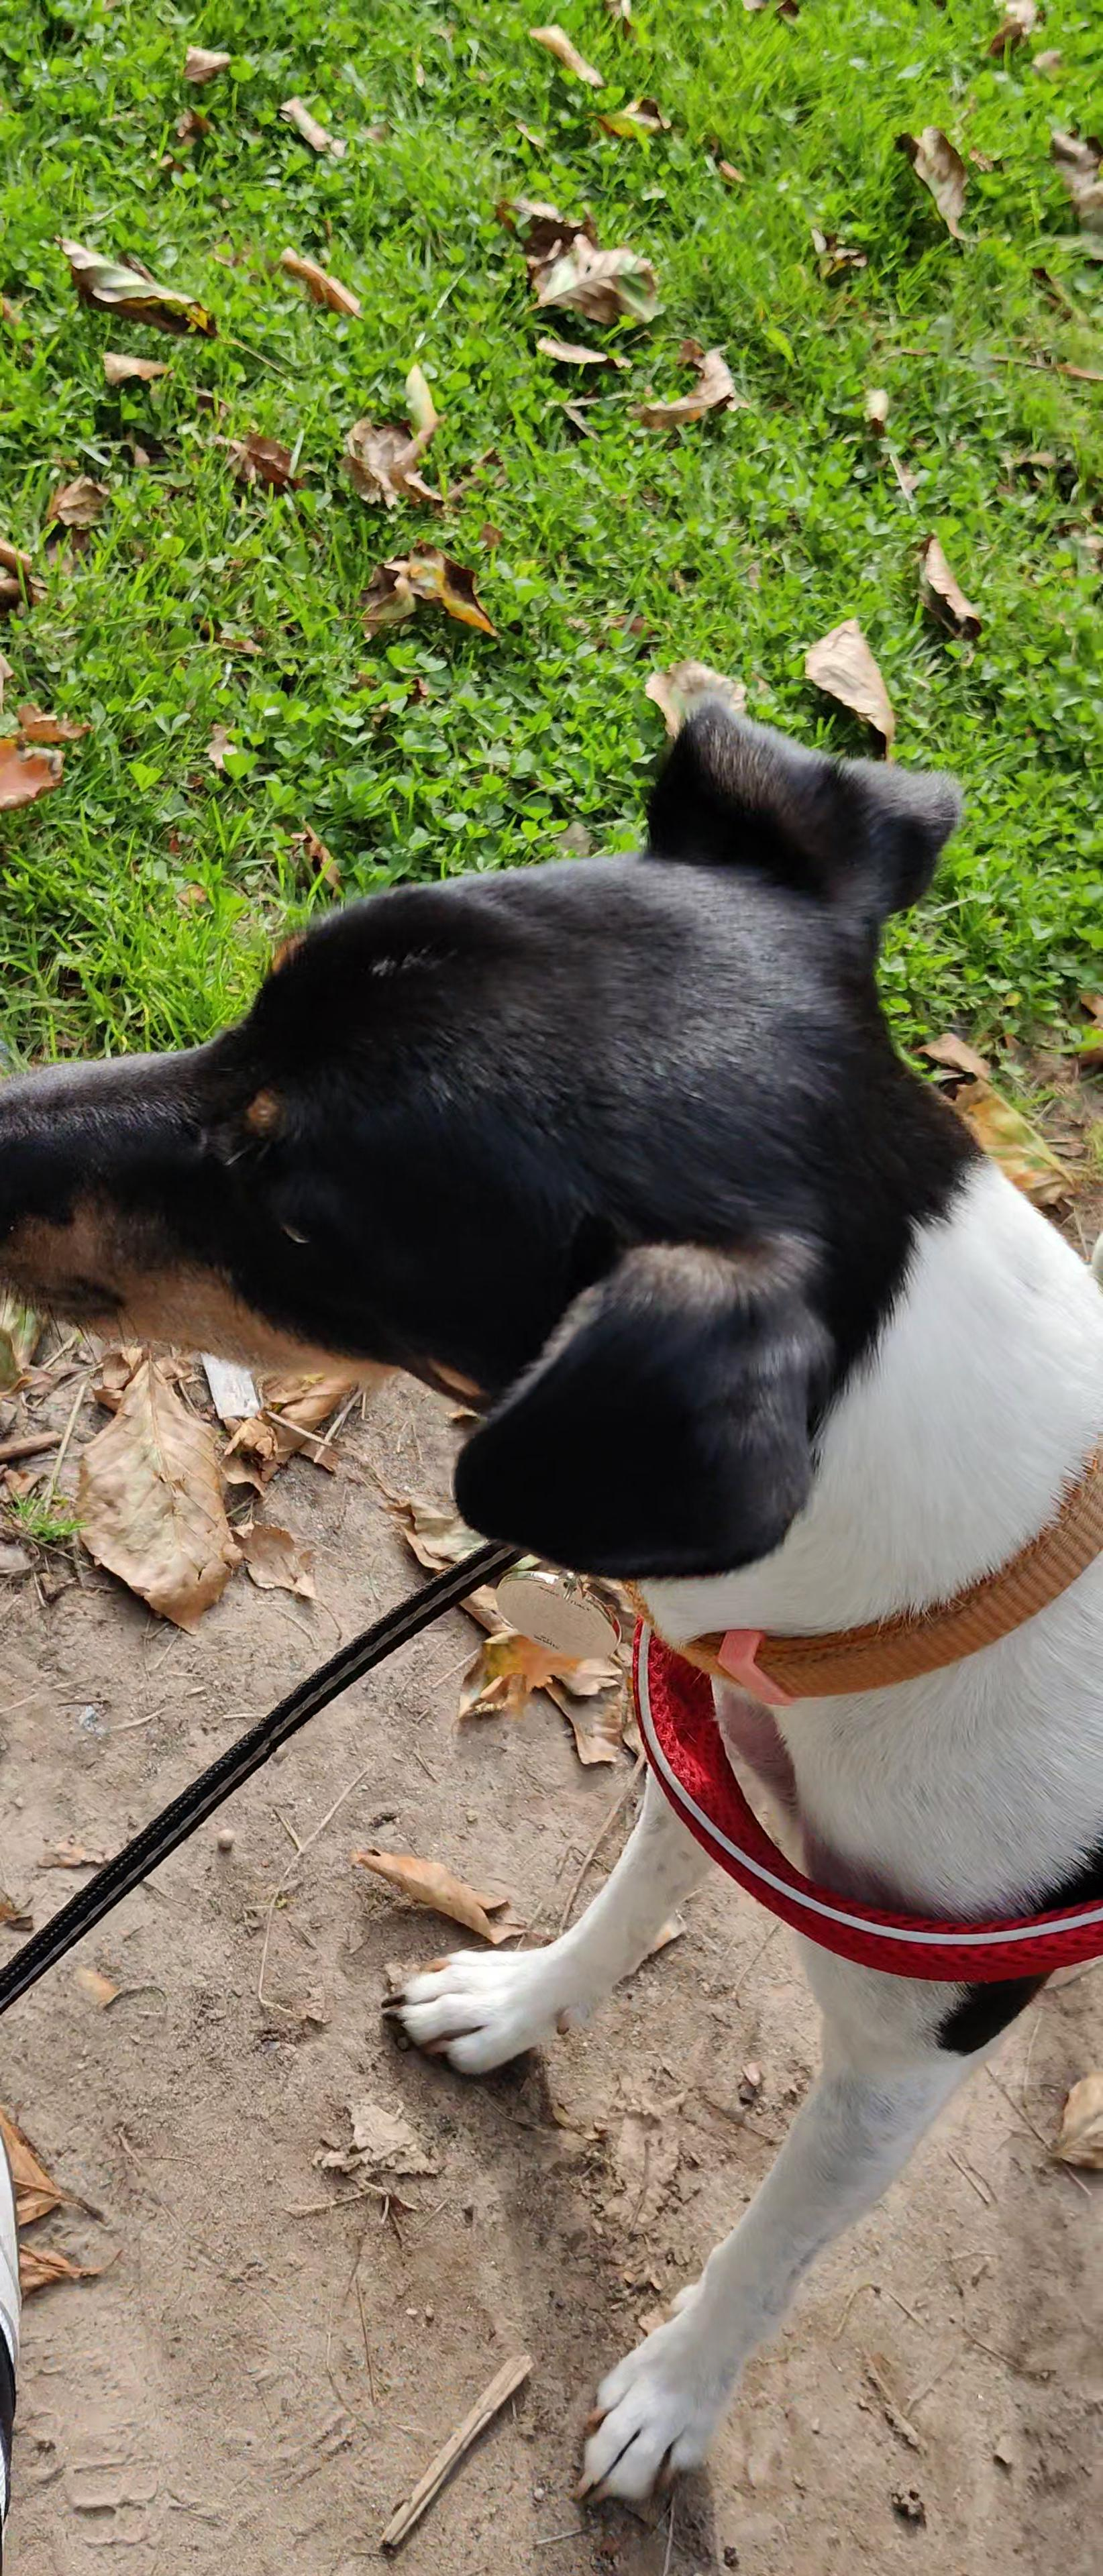Dog: (0, 669, 1103, 2517)
